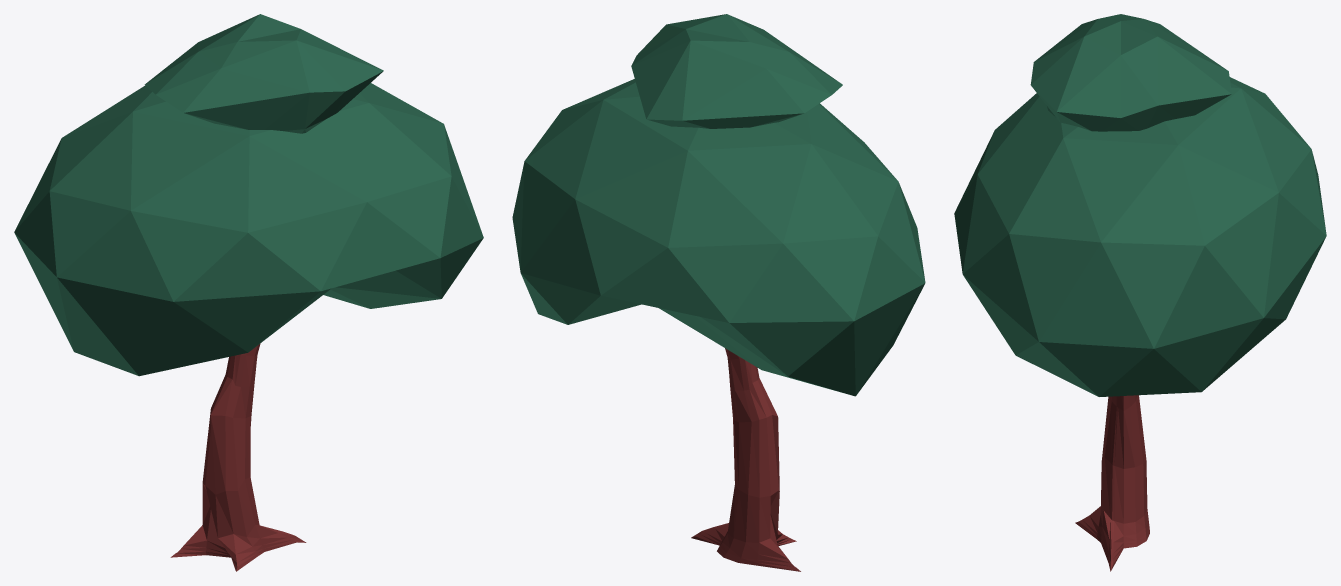
Rendered from tree_03.FBX.
The picture shows the model from 3 angles, left to right: view 1: azimuth 30°, elevation 25°; view 2: azimuth 150°, elevation 25°; view 3: azimuth 270°, elevation 25°; orthographic projection.
Parts seen in each view (by area): view 1: tree_03; view 2: tree_03; view 3: tree_03.
Part boxes in pixels (box(x1,y1,x2,y2)): tree_03: box(14, 14, 483, 571); tree_03: box(512, 14, 925, 571); tree_03: box(954, 14, 1326, 571).
Bounding box in the file's own units: 8.04 × 10 × 6.44.
Materials: 1 (1 with a texture image).
